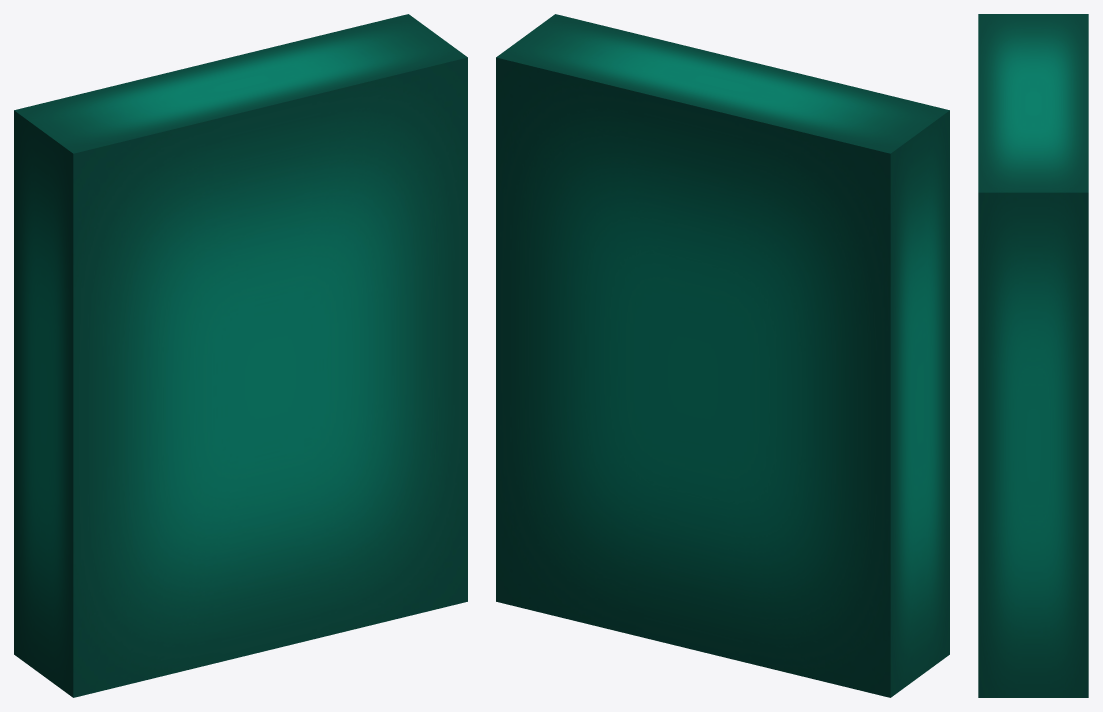
The model's file is block7.glb.
3 renders of one model, left to right at view 1: azimuth 30°, elevation 25°; view 2: azimuth 150°, elevation 25°; view 3: azimuth 270°, elevation 25°, orthographic. The views are drawn at different scales.
Parts seen in each view (by area): view 1: Object_54, Object_51, Object_49; view 2: Object_52, Object_51, Object_49; view 3: Object_53, Object_49.
Boxes of the visible parts, x1=… form: Object_54: x1=73, y1=57, x2=467, y2=697; Object_51: x1=14, y1=110, x2=73, y2=697; Object_49: x1=14, y1=14, x2=467, y2=153; Object_52: x1=496, y1=57, x2=890, y2=697; Object_51: x1=890, y1=110, x2=949, y2=697; Object_49: x1=496, y1=14, x2=949, y2=153; Object_53: x1=978, y1=192, x2=1088, y2=697; Object_49: x1=978, y1=14, x2=1088, y2=192.
Bounding box in the file's own units: 0.6096 × 0.8034 × 0.1589.
1 material, 1 textured.
